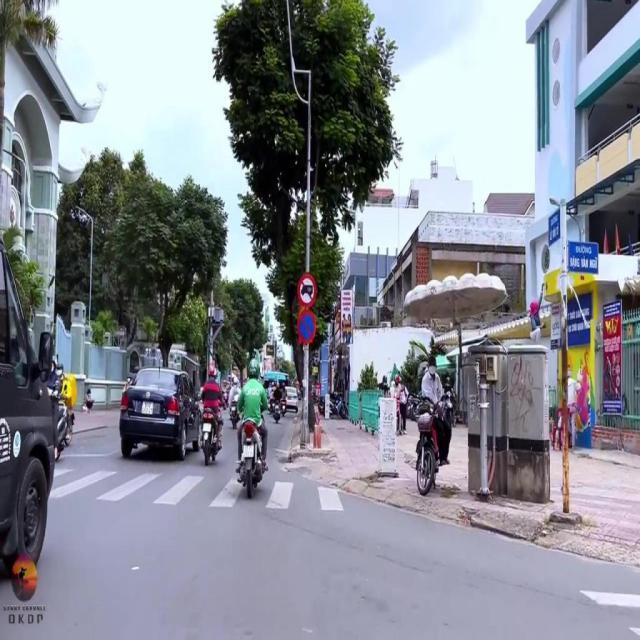106-cam-oto-tai: (297, 274, 317, 308)
131a-cam-do-xe: (296, 310, 316, 346)
